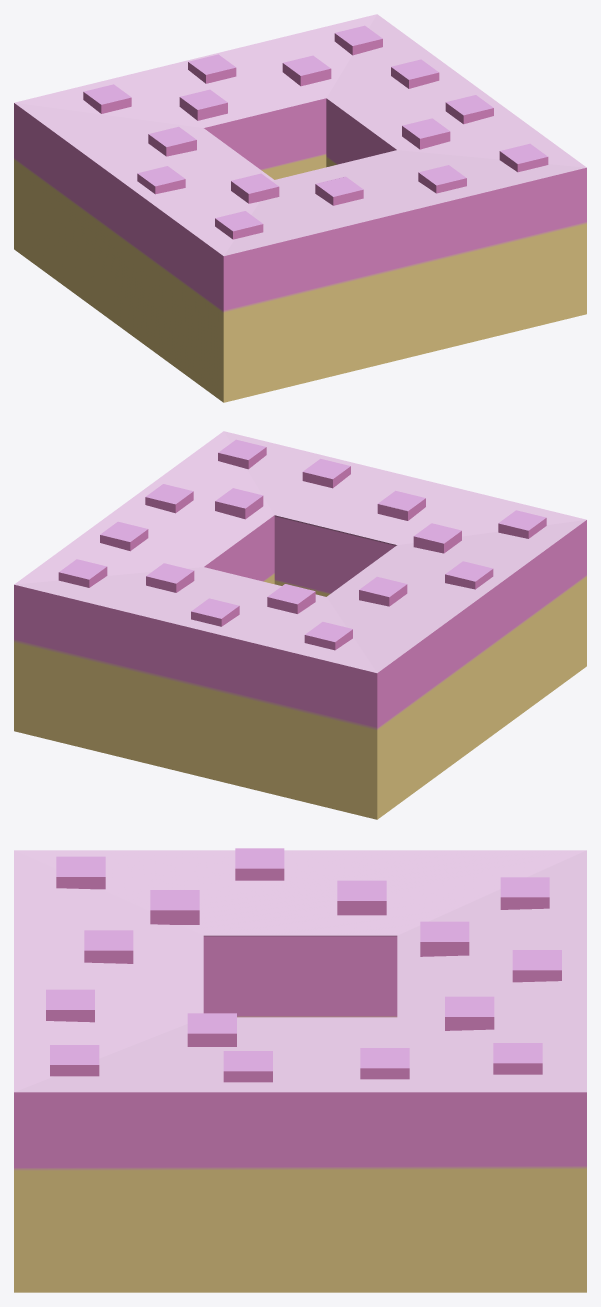
File: DonutChocolate.fbx
3 views of the same model, one above another, from view 1: azimuth 30°, elevation 25°; view 2: azimuth 150°, elevation 25°; view 3: azimuth 270°, elevation 25° (orthographic). The views are drawn at different scales.
Parts seen in each view (by area): view 1: Cube; view 2: Cube; view 3: Cube.
Boxes of the visible parts, bbox=[...] form: Cube: bbox=[14, 14, 586, 402]; Cube: bbox=[14, 431, 586, 819]; Cube: bbox=[14, 848, 586, 1292].
Size of the model in its own units: 385 by 156 by 385.
